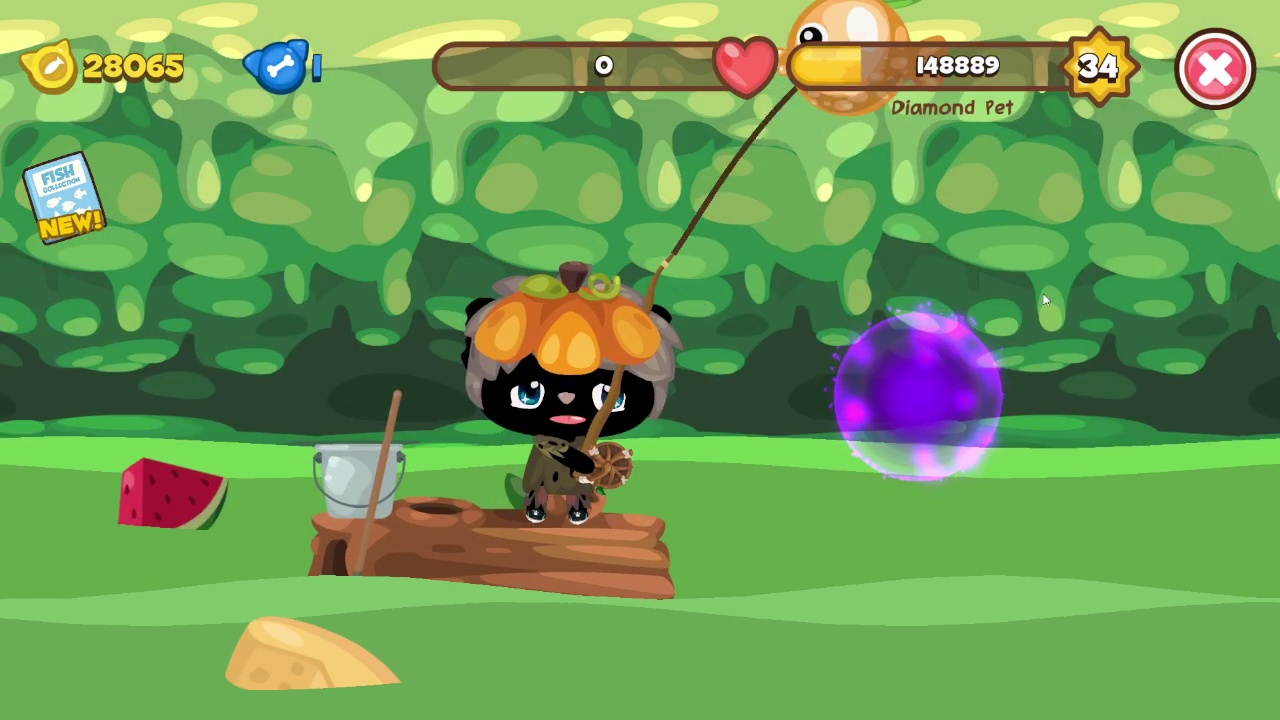point: (831, 311, 1004, 481)
